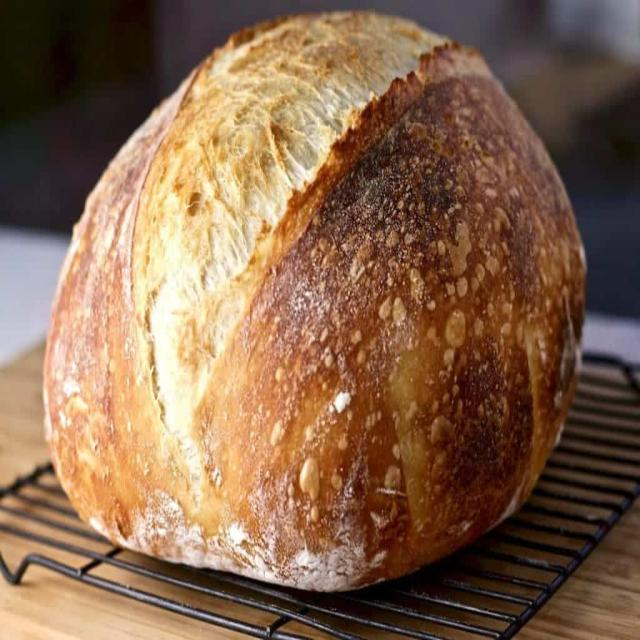Maltese-Bread: (44, 11, 586, 589)
